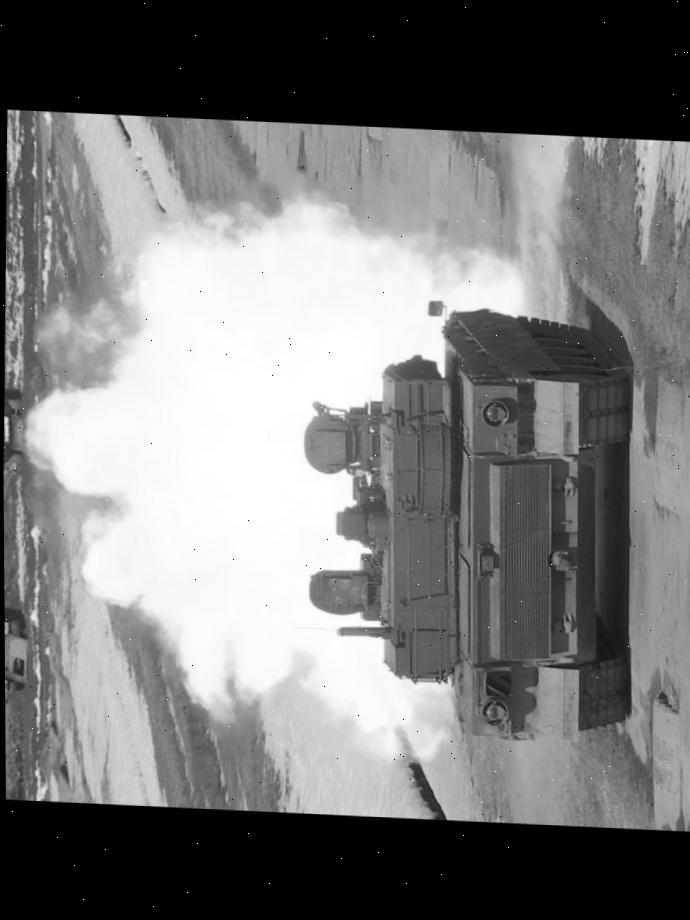tank: (293, 289, 640, 747), (4, 602, 35, 694), (3, 378, 22, 472)
